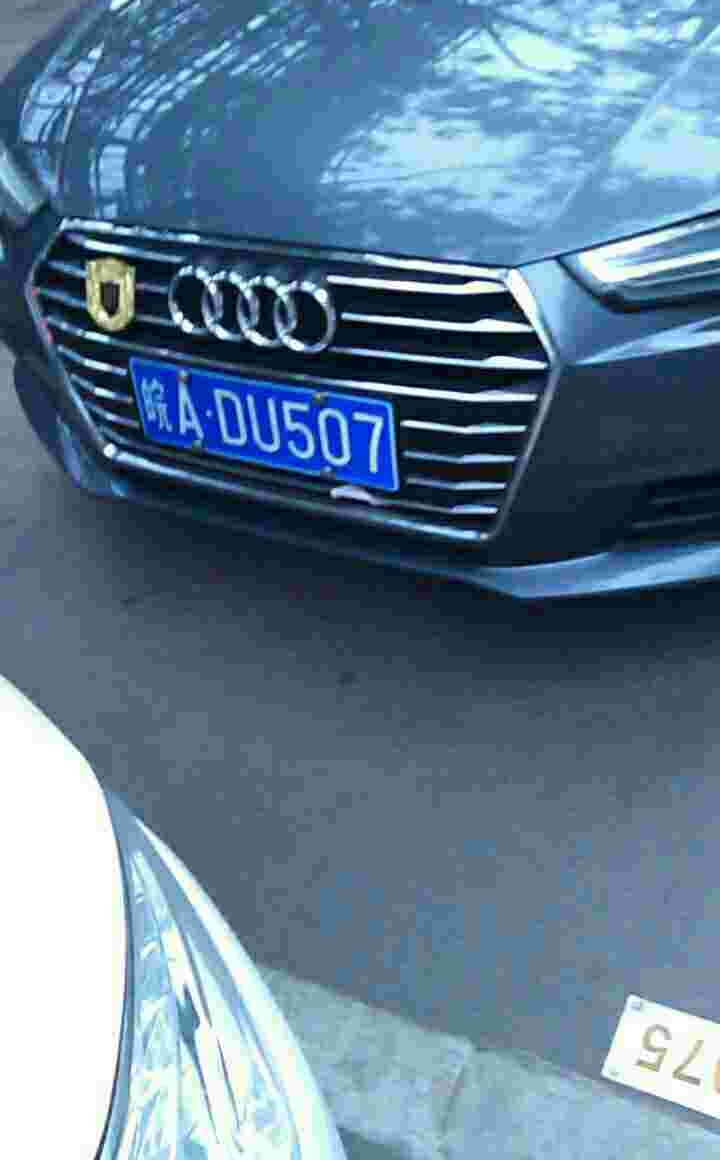car: (122, 359, 422, 494)
